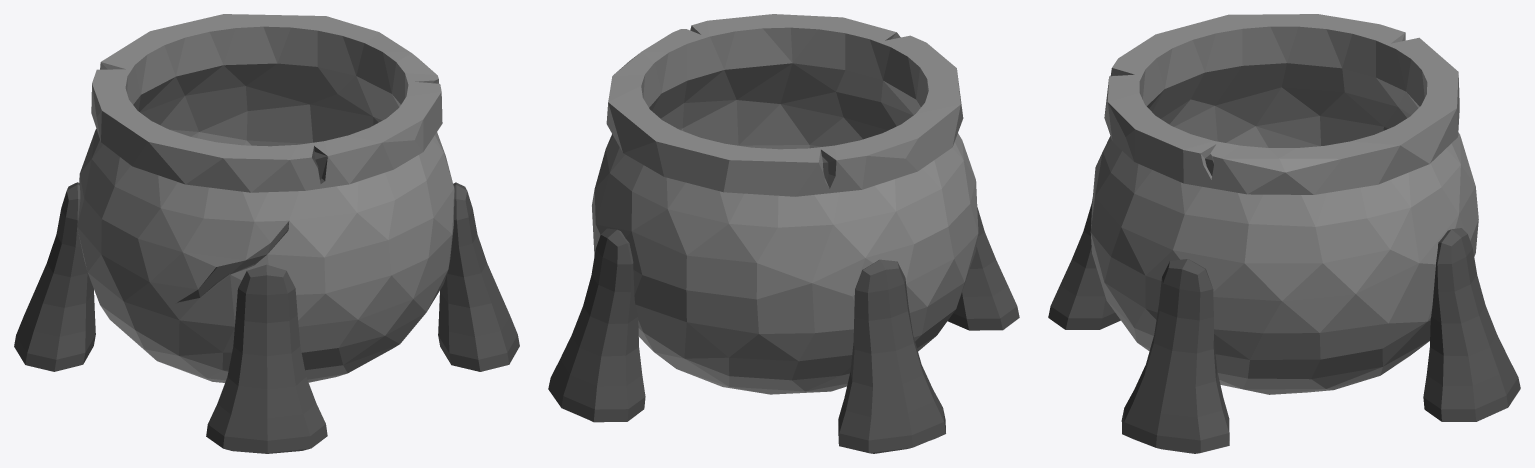
Rendered from Cauldron_Big.fbx.
The picture shows the model from 3 angles, left to right: view 1: azimuth 30°, elevation 25°; view 2: azimuth 150°, elevation 25°; view 3: azimuth 270°, elevation 25°; orthographic projection. The views are drawn at different scales.
Visible parts, largest first — view 1: Cauldron Big; view 2: Cauldron Big; view 3: Cauldron Big.
Part boxes in pixels (<box>): Cauldron Big: <box>14,14,519,453</box>; Cauldron Big: <box>548,14,1019,453</box>; Cauldron Big: <box>1048,14,1520,453</box>.
Size of the model in its own units: 175 by 112 by 175.
